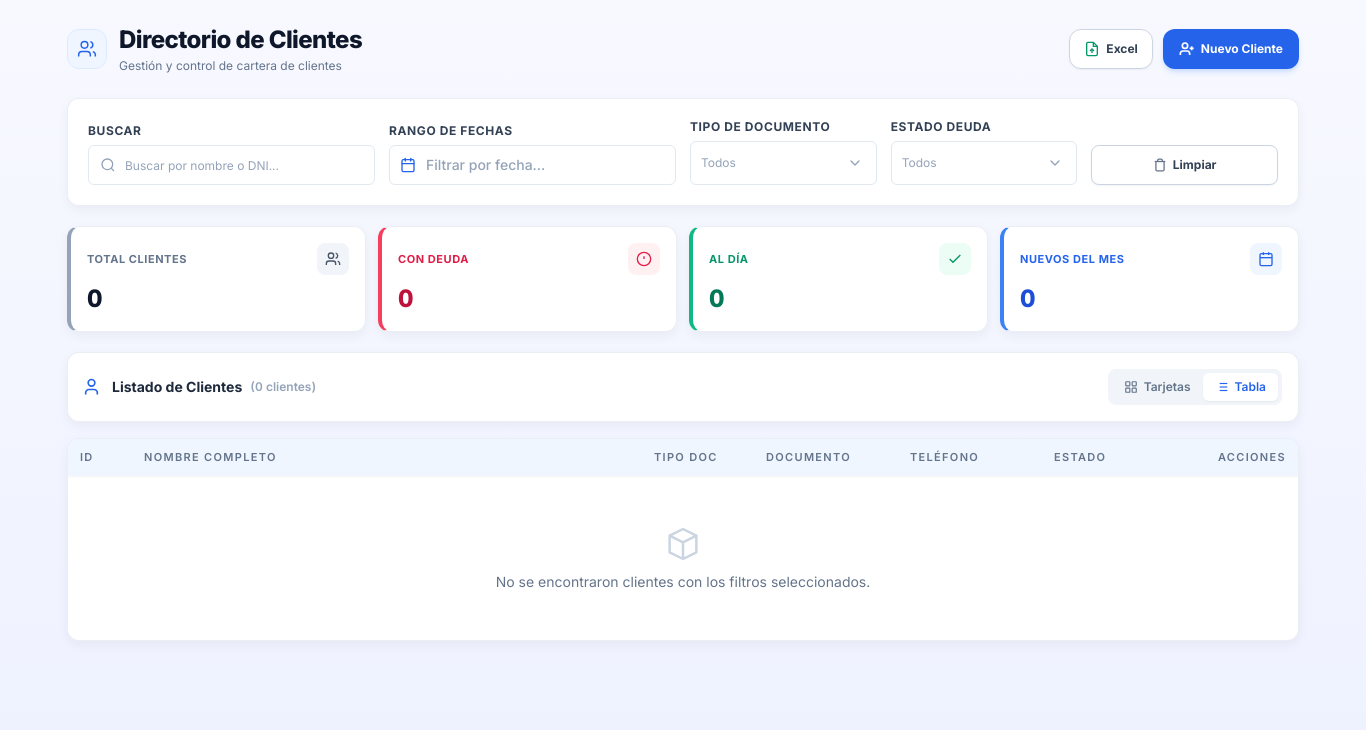
Scenario: ClientesListComponent — N-2 similitud en directorio › muestra la seccion "Clientes similares" cuando hay matches y no hay match exacto
The image size is (1366, 730).
Type "Juan Perez" into the search field with placeholder "Buscar por nombre o DNI..." at (232, 165), box left=88, top=145, right=375, bottom=185
Wait 250 ms
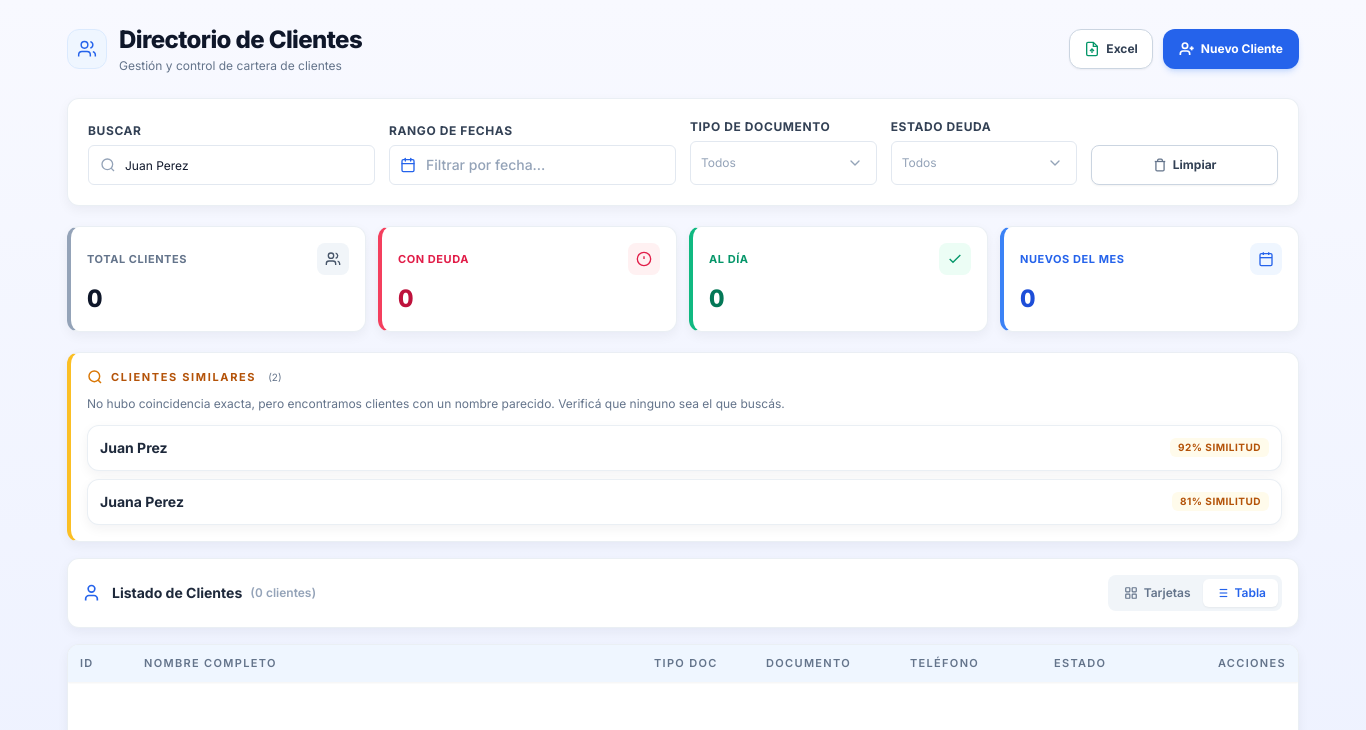
Check: the element that starts with "Clientes similares" is shown, box left=67, top=352, right=1299, bottom=542
Check: the element that starts with "Clientes similares" shows "92% similitud", box left=87, top=425, right=1282, bottom=471
Check: the element that starts with "Clientes similares" shows "81% similitud", box left=87, top=479, right=1282, bottom=525
